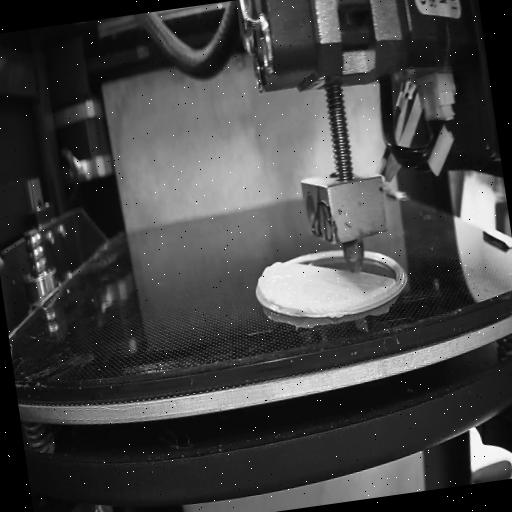over_extrusion: (253, 256, 289, 315)
